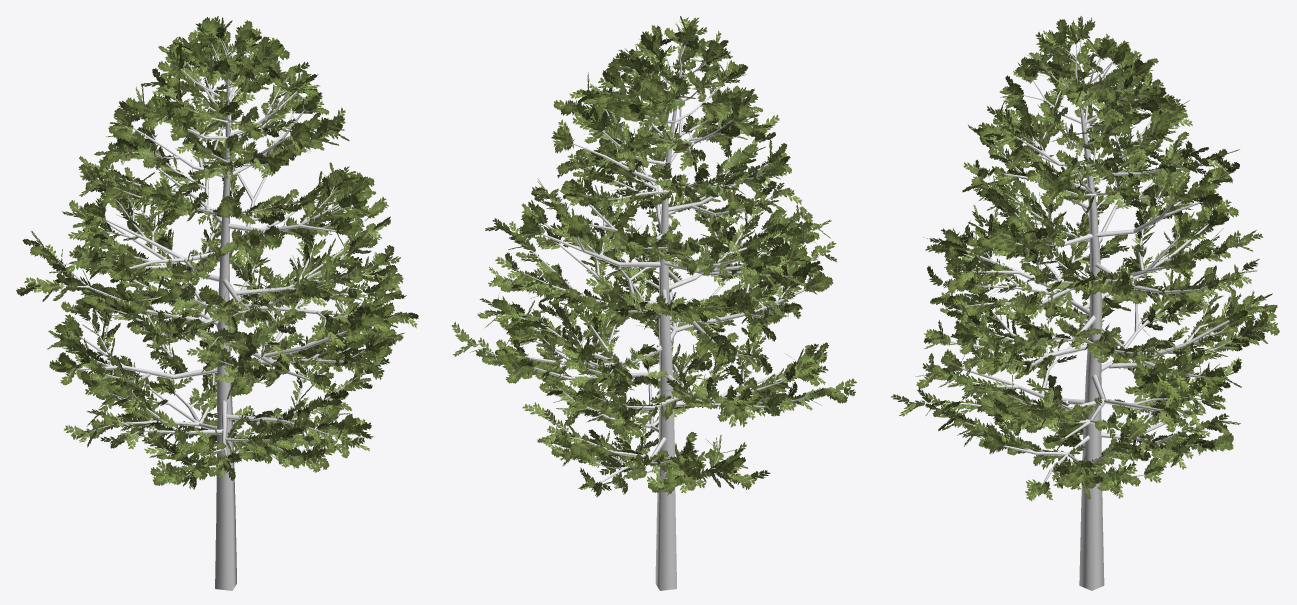
The model's file is gtree2.fbx.
The picture shows the model from 3 angles, left to right: view 1: azimuth 30°, elevation 25°; view 2: azimuth 150°, elevation 25°; view 3: azimuth 270°, elevation 25°; orthographic projection. The views are drawn at different scales.
Visible parts, largest first — view 1: leaves.001, tree.001; view 2: leaves.001, tree.001; view 3: leaves.001, tree.001.
Boxes of the visible parts, bbox=[...] form: leaves.001: bbox=[16, 16, 418, 489]; tree.001: bbox=[41, 37, 395, 590]; leaves.001: bbox=[451, 16, 856, 497]; tree.001: bbox=[469, 43, 825, 590]; leaves.001: bbox=[891, 16, 1279, 501]; tree.001: bbox=[922, 38, 1252, 590].
Size of the model in its own units: 340 by 555 by 353.
Materials: 2 (1 with a texture image).
